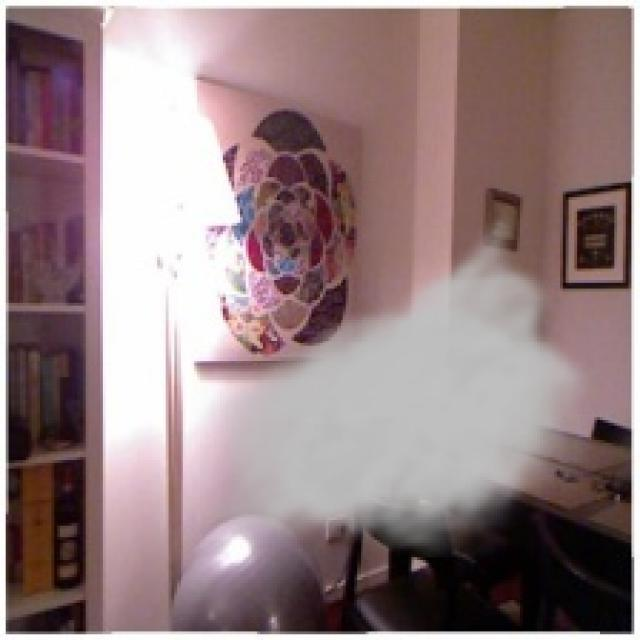Smoke: (191, 197, 600, 557)
